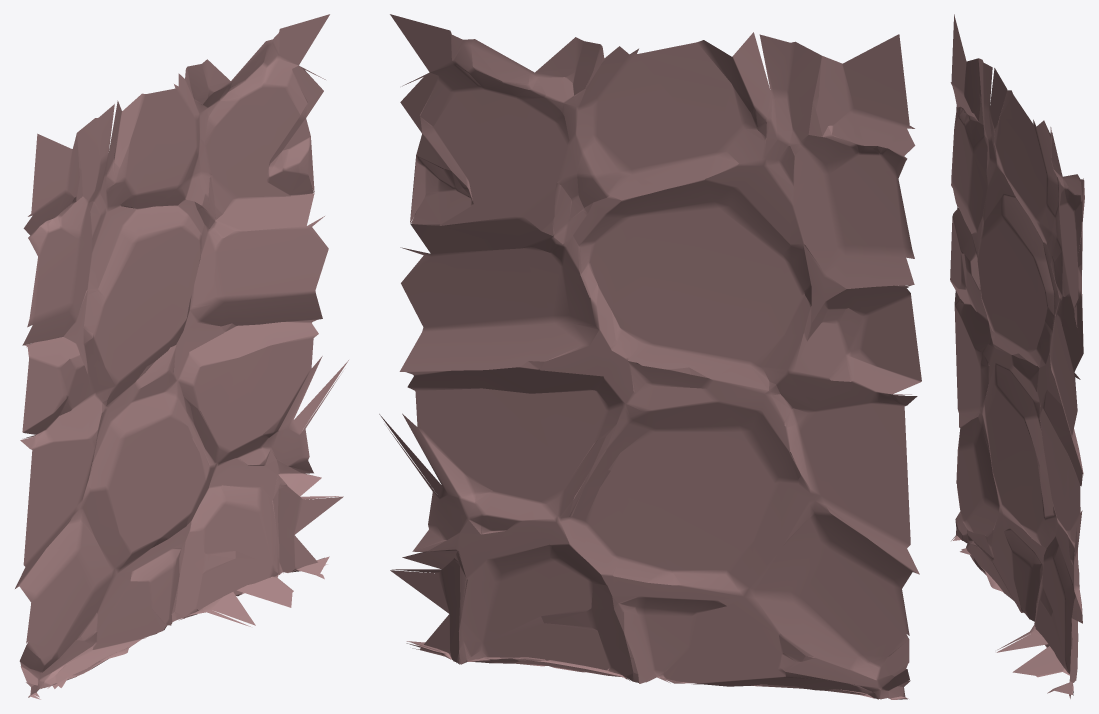
File: plateau.fbx_Rock_Plateau_040LODs.fbx
3 views of the same model, side by side, from view 1: azimuth 30°, elevation 25°; view 2: azimuth 150°, elevation 25°; view 3: azimuth 270°, elevation 25° (orthographic). The views are drawn at different scales.
Visible parts, largest first — view 1: Rock Plateau.040_LOD0; view 2: Rock Plateau.040_LOD0; view 3: Rock Plateau.040_LOD0.
Boxes of the visible parts, left/top/right/bottom form: Rock Plateau.040_LOD0: left=15, top=14, right=348, bottom=699; Rock Plateau.040_LOD0: left=379, top=14, right=921, bottom=699; Rock Plateau.040_LOD0: left=950, top=14, right=1084, bottom=698.
Size of what is drawn, in the model's own units: 3054 by 4165 by 961.
